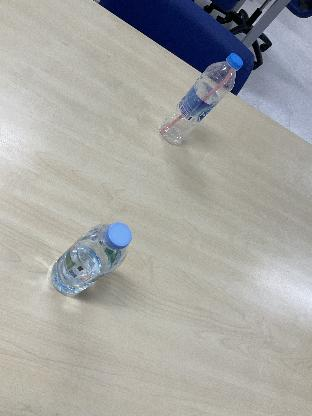Plastic Bottle: (159, 48, 245, 150), (50, 219, 132, 299)
